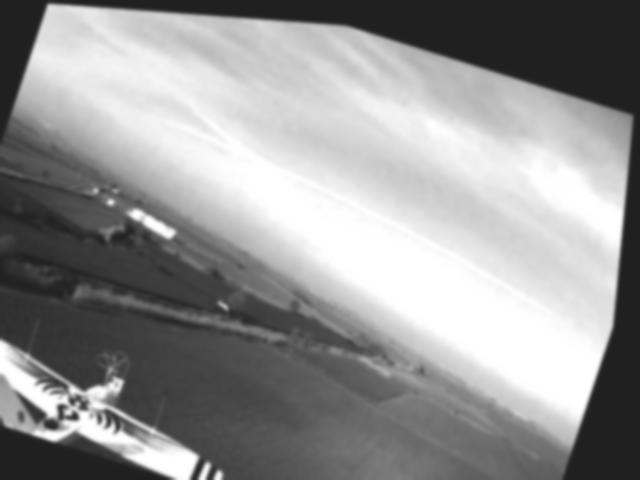hedef: (0, 292, 277, 480)
